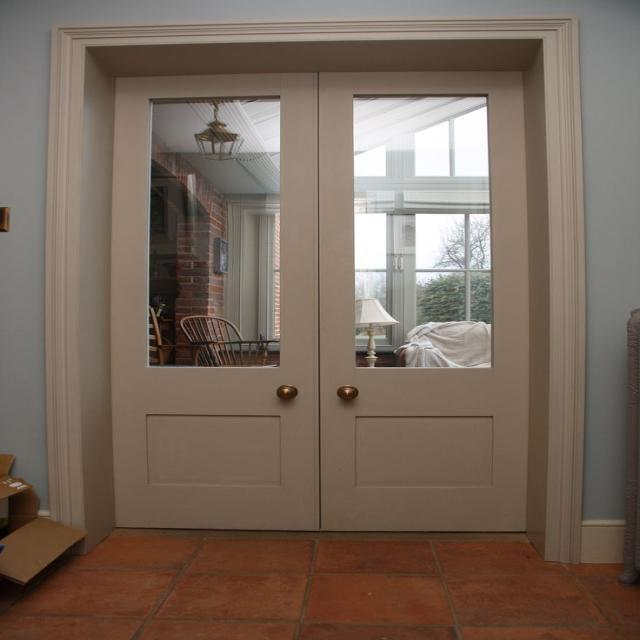door: (61, 22, 558, 531)
